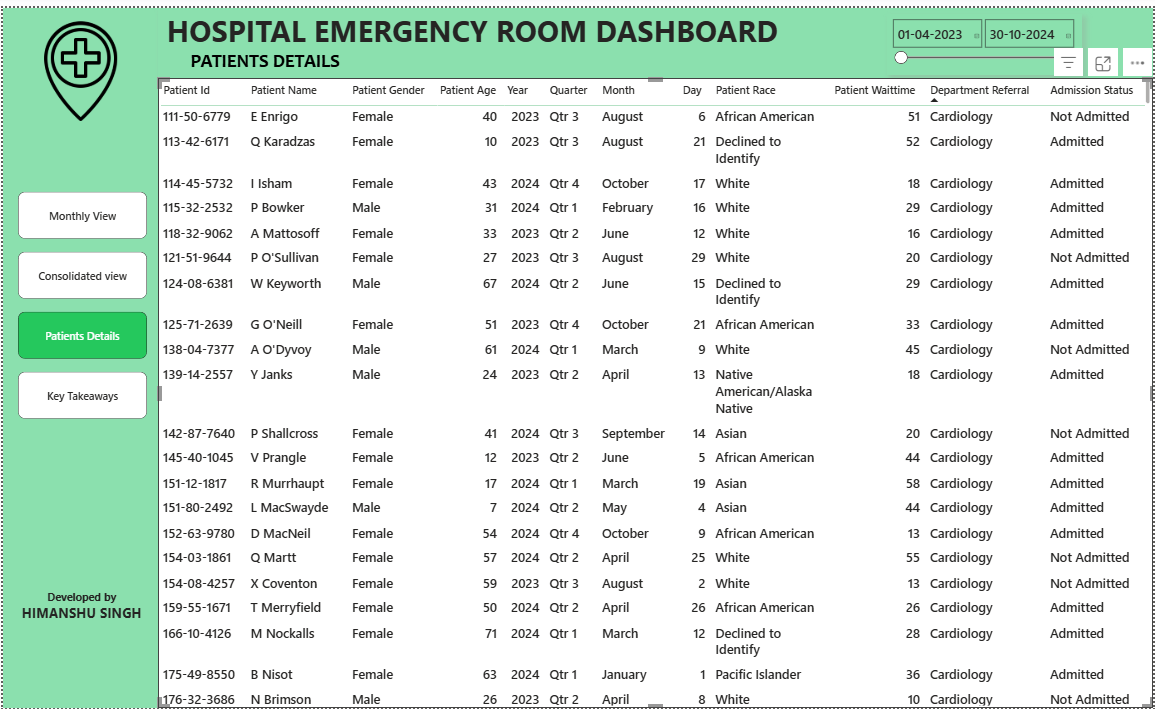

What the dashboard file says about the page in this screenshot:
{"tool":"powerbi","page":{"name":"Patients Details","canvas":[2300,1400],"ordinal":2},"visuals":[{"type":"shape","box":[0,0,310,1400.5],"z":0},{"type":"shape","box":[310.7,0,1990,140],"z":1000},{"type":"textbox","box":[309.6,0,1257.8,104],"z":2000},{"type":"textbox","box":[287.1,76.7,473.4,57],"z":3000},{"type":"slicer","fields":{"Values":["Data Table.Date"]},"box":[1768.6,13.1,390.1,120.5],"z":4000},{"type":"image","box":[46,19.4,220.1,212.9],"z":5000},{"type":"tableEx","fields":{"Values":["Hospital ER_Data.Patient Id","Hospital ER_Data.Patient Full Name","Hospital ER_Data.Patient Gender","Sum(Hospital ER_Data.Patient Age)","Hospital ER_Data.Patient Admission Date.Variation.Date Hierarchy.Year","Hospital ER_Data.Patient Admission Date.Variation.Date Hierarchy.Quarter","Hospital ER_Data.Patient Admission Date.Variation.Date Hierarchy.Month","Hospital ER_Data.Patient Admission Date.Variation.Date Hierarchy.Day","Hospital ER_Data.Patient Race","Sum(Hospital ER_Data.Patient Waittime)","Hospital ER_Data.Department Referral","Hospital ER_Data.Admission Status"]},"box":[311,140,1989,1260],"z":6000},{"type":"pageNavigator","box":[29,367.7,258.8,457.2],"z":7000},{"type":"textbox","box":[6.6,1157.2,300.3,131.5],"z":8000}]}

Visuals, with their boxes in screenshot pixels (x1, y1, x2, y2), scaled from the page's 2300x1400 canvas onto the 1155x709 screenshot:
shape: [0,0,156,708]
shape: [156,0,1154,71]
textbox: [155,0,787,53]
textbox: [144,39,382,68]
slicer - Data Table.Date: [888,7,1084,68]
image: [23,10,134,118]
tableEx - Hospital ER_Data.Patient Id x Hospital ER_Data.Patient Full Name: [156,71,1154,708]
pageNavigator: [15,186,145,418]
textbox: [3,586,154,653]
